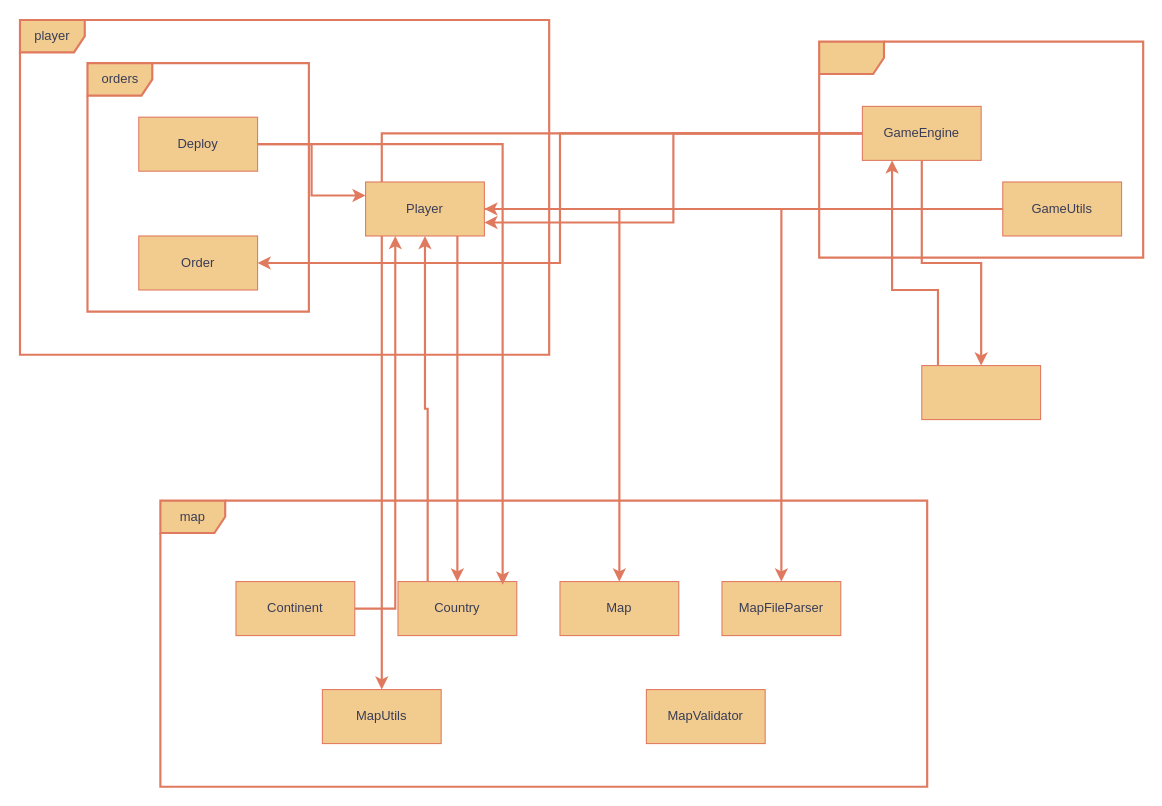
This 1162x806 diagram has some shape labels left out. Each missing label, with the centre of its shape:
"game" belongs at [981,149].
"Main" belongs at [981,392].
